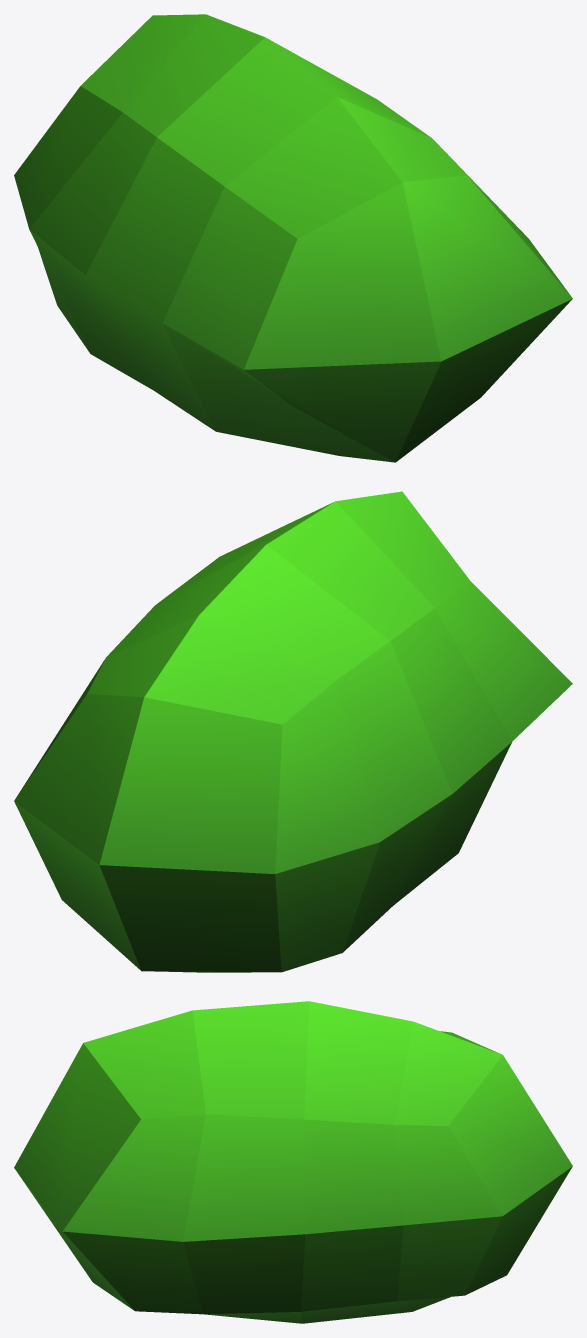
The model's file is Bush_Medium.fbx.
The picture shows the model from 3 angles, top to bottom: view 1: azimuth 30°, elevation 25°; view 2: azimuth 150°, elevation 25°; view 3: azimuth 270°, elevation 25°; orthographic projection. The views are drawn at different scales.
Parts seen in each view (by area): view 1: Bush_Medium; view 2: Bush_Medium; view 3: Bush_Medium.
Boxes of the visible parts, x1,y1,x2,y2 form: Bush_Medium: [14, 14, 572, 462]; Bush_Medium: [14, 491, 572, 972]; Bush_Medium: [14, 1001, 572, 1323].
Bounding box in the file's own units: 180 × 177 × 280.
